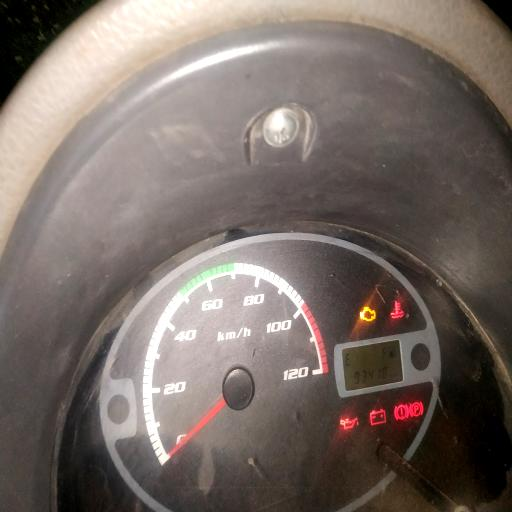brake_system_fault: (394, 402, 409, 420)
check_engine: (360, 306, 376, 322)
oil: (340, 416, 360, 430)
vehicle_charging: (369, 406, 387, 426)
